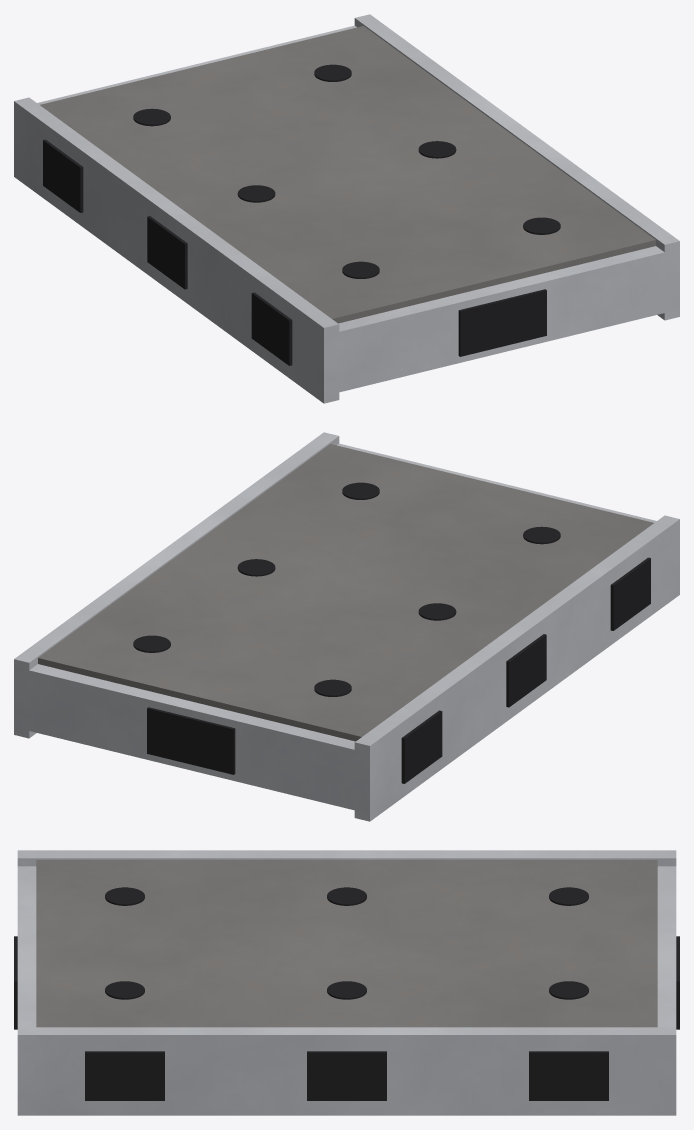
The model's file is rover13_chassis_frame_s.glb.
3 views of the same model, one above another, from view 1: azimuth 30°, elevation 25°; view 2: azimuth 150°, elevation 25°; view 3: azimuth 270°, elevation 25° (orthographic). The views are drawn at different scales.
Parts seen in each view (by area): view 1: deck_top, rails, end_beams, hardpoints, end_hardpoints, sockets_top; view 2: deck_top, rails, end_beams, hardpoints, end_hardpoints, sockets_top; view 3: deck_top, rails, hardpoints, end_beams, sockets_top, end_hardpoints.
Part boxes in pixels (bbox=[...]): deck_top: bbox=[40, 26, 655, 323]; rails: bbox=[14, 14, 679, 403]; end_beams: bbox=[37, 25, 664, 392]; hardpoints: bbox=[43, 139, 292, 365]; end_hardpoints: bbox=[458, 289, 546, 356]; sockets_top: bbox=[133, 64, 560, 278]; deck_top: bbox=[38, 444, 653, 741]; rails: bbox=[14, 432, 679, 821]; end_beams: bbox=[29, 443, 656, 810]; hardpoints: bbox=[401, 557, 650, 783]; end_hardpoints: bbox=[147, 707, 235, 774]; sockets_top: bbox=[133, 482, 560, 696]; deck_top: bbox=[36, 860, 657, 1027]; rails: bbox=[17, 850, 676, 1115]; hardpoints: bbox=[85, 1051, 608, 1100]; end_beams: bbox=[17, 866, 676, 1027]; sockets_top: bbox=[105, 887, 588, 999]; end_hardpoints: bbox=[14, 936, 679, 1029].
Bounding box in the file's own units: 1 × 0.2 × 1.5.
Materials: 3 (2 with a texture image).
